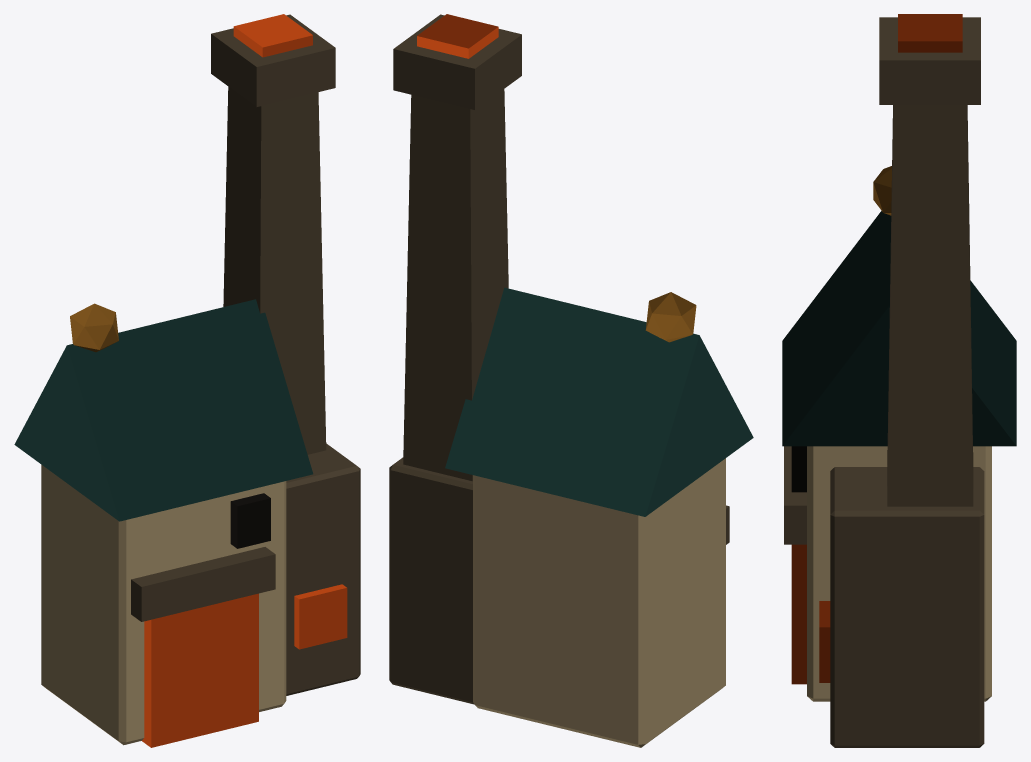
Rendered from forge.obj.
3 views of the same model, side by side, from view 1: azimuth 30°, elevation 25°; view 2: azimuth 150°, elevation 25°; view 3: azimuth 270°, elevation 25° (orthographic). The views are drawn at different scales.
Visible parts, largest first — view 1: core_stone_dark, core_roof_hall, core_stone, core_fire, core_window, core_gold; view 2: core_stone, core_stone_dark, core_roof_hall, core_fire, core_gold; view 3: core_stone_dark, core_roof_hall, core_stone, core_fire, core_window, core_gold.
Boxes of the visible parts, left/top/right/bottom form: core_stone_dark: left=131, top=14, right=360, bottom=695; core_roof_hall: left=14, top=299, right=313, bottom=521; core_stone: left=41, top=465, right=286, bottom=745; core_fire: left=142, top=14, right=347, bottom=747; core_window: left=230, top=493, right=270, bottom=548; core_gold: left=70, top=303, right=118, bottom=352; core_stone: left=473, top=458, right=725, bottom=747; core_stone_dark: left=389, top=14, right=729, bottom=704; core_roof_hall: left=445, top=287, right=753, bottom=516; core_fire: left=417, top=14, right=498, bottom=58; core_gold: left=645, top=292, right=696, bottom=342; core_stone_dark: left=784, top=17, right=984, bottom=747; core_roof_hall: left=782, top=211, right=1016, bottom=446; core_stone: left=807, top=446, right=991, bottom=701; core_fire: left=791, top=14, right=962, bottom=684; core_window: left=791, top=446, right=806, bottom=492; core_gold: left=873, top=166, right=891, bottom=215.
Size of the model in its own units: 0.221 by 0.5 by 0.152.
